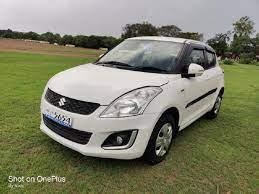Hatchback: (39, 35, 226, 164)
